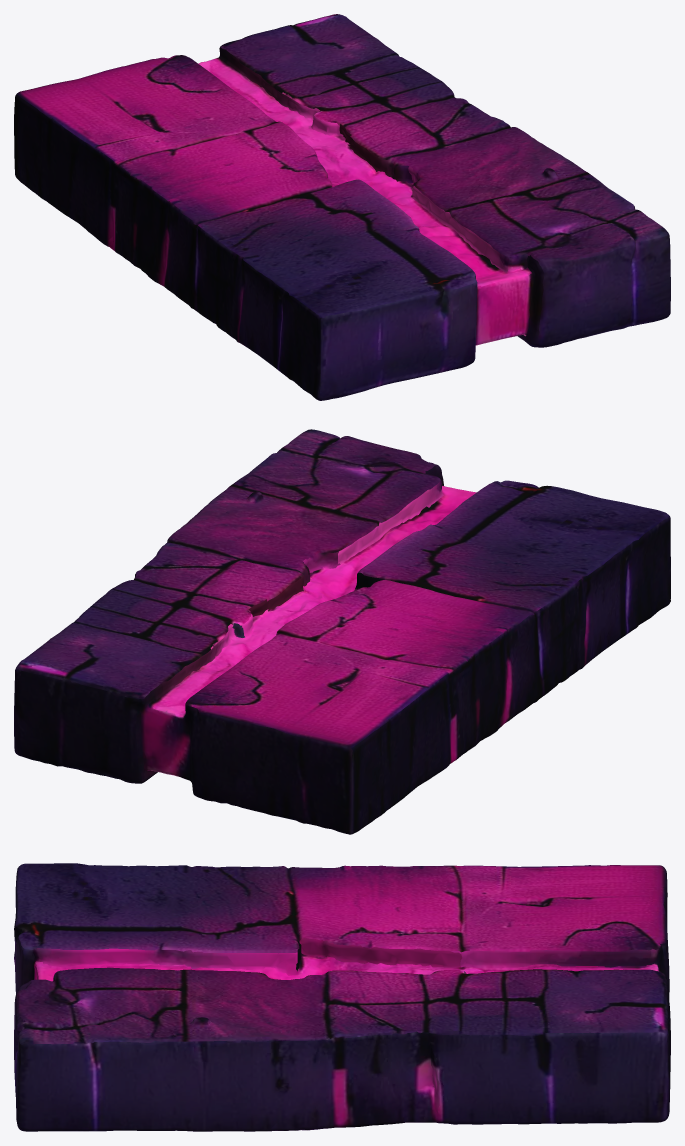
Rendered from approach-stone-5-generated-2026-05-17T18-22-11-356Z.medium.glb.
3 views of the same model, one above another, from view 1: azimuth 30°, elevation 25°; view 2: azimuth 150°, elevation 25°; view 3: azimuth 270°, elevation 25° (orthographic). The views are drawn at different scales.
Parts seen in each view (by area): view 1: temp_mesh.ply; view 2: temp_mesh.ply; view 3: temp_mesh.ply.
Part boxes in pixels (x1,y1,x2,y2): temp_mesh.ply: (14,14,670,400); temp_mesh.ply: (14,429,670,834); temp_mesh.ply: (14,863,670,1131).
Bounding box in the file's own units: 1.29 × 0.335 × 1.97.
Materials: 1 (1 with a texture image).
